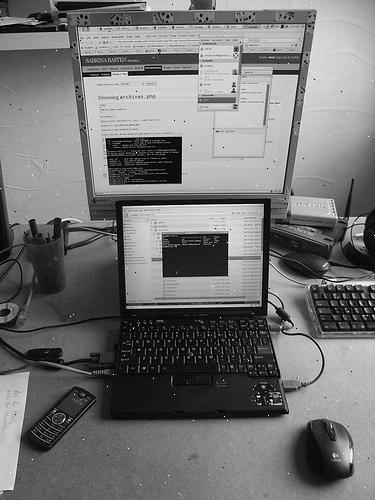cup: (24, 214, 83, 298)
